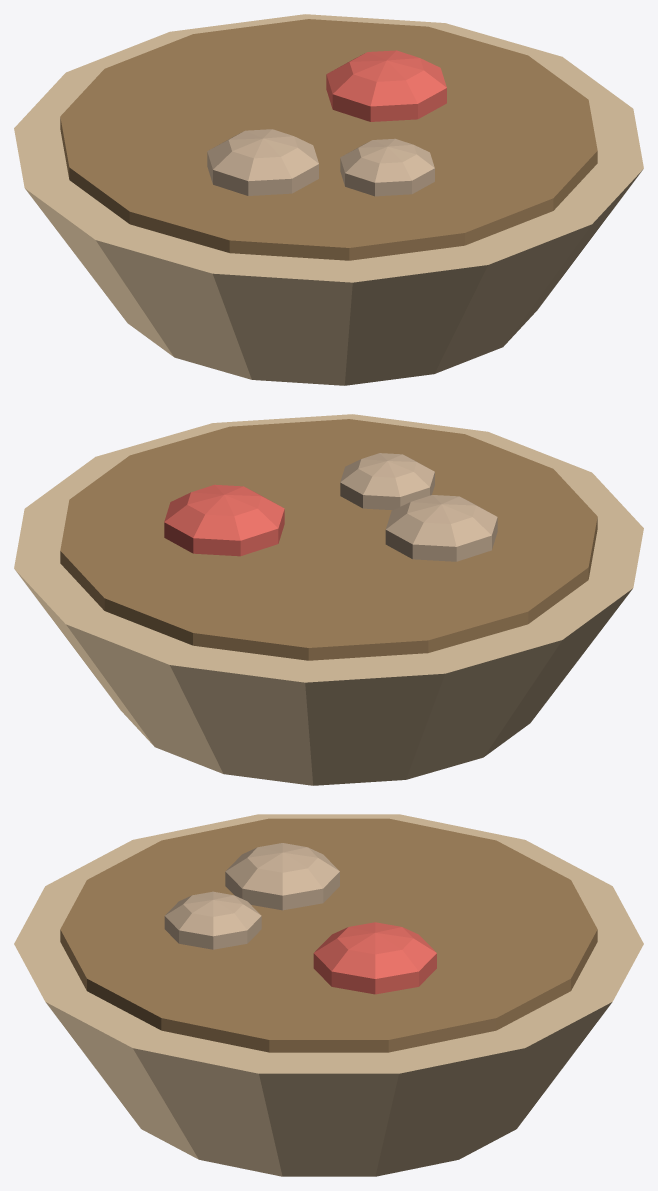
The model's file is mushroom_stew_held.gltf.
3 renders of one model, top to bottom at view 1: azimuth 30°, elevation 25°; view 2: azimuth 150°, elevation 25°; view 3: azimuth 270°, elevation 25°, orthographic.
Visible parts, largest first — view 1: wilds_mushroom_stew_held; view 2: wilds_mushroom_stew_held; view 3: wilds_mushroom_stew_held.
Boxes of the visible parts, left/top/right/bottom form: wilds_mushroom_stew_held: left=14, top=14, right=643, bottom=385; wilds_mushroom_stew_held: left=14, top=414, right=643, bottom=785; wilds_mushroom_stew_held: left=14, top=814, right=643, bottom=1176.
Size of the model in its own units: 0.1326 by 0.047 by 0.136.
